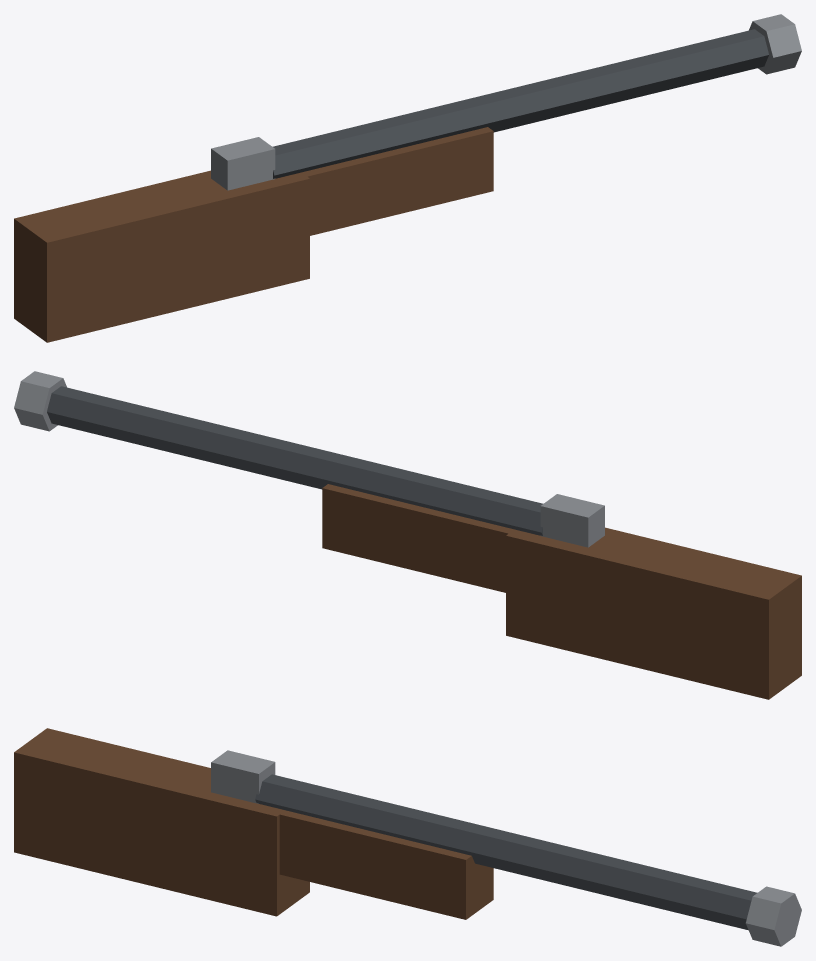
Rendered from musket.glb.
3 views of the same model, one above another, from view 1: azimuth 30°, elevation 25°; view 2: azimuth 150°, elevation 25°; view 3: azimuth 330°, elevation 25° (orthographic).
Parts seen in each view (by area): view 1: musket; view 2: musket; view 3: musket.
Boxes of the visible parts, left/top/right/bottom form: musket: left=14, top=14, right=801, bottom=342; musket: left=14, top=371, right=801, bottom=699; musket: left=14, top=728, right=801, bottom=946.
Bounding box in the file's own units: 1.59 × 0.26 × 0.12.
Materials: 1 (1 with a texture image).
